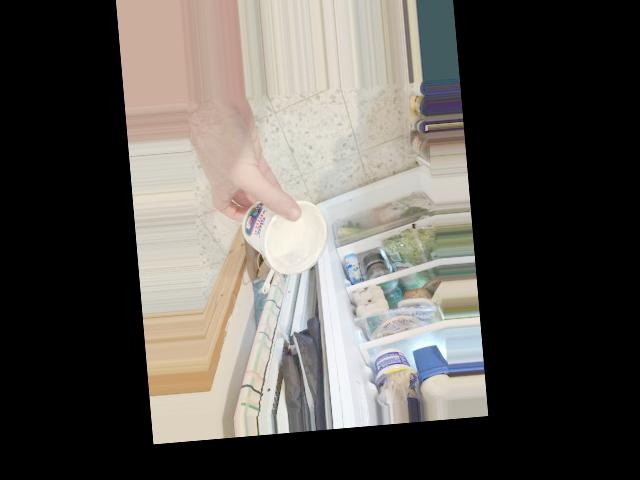cotage: (236, 191, 321, 276)
